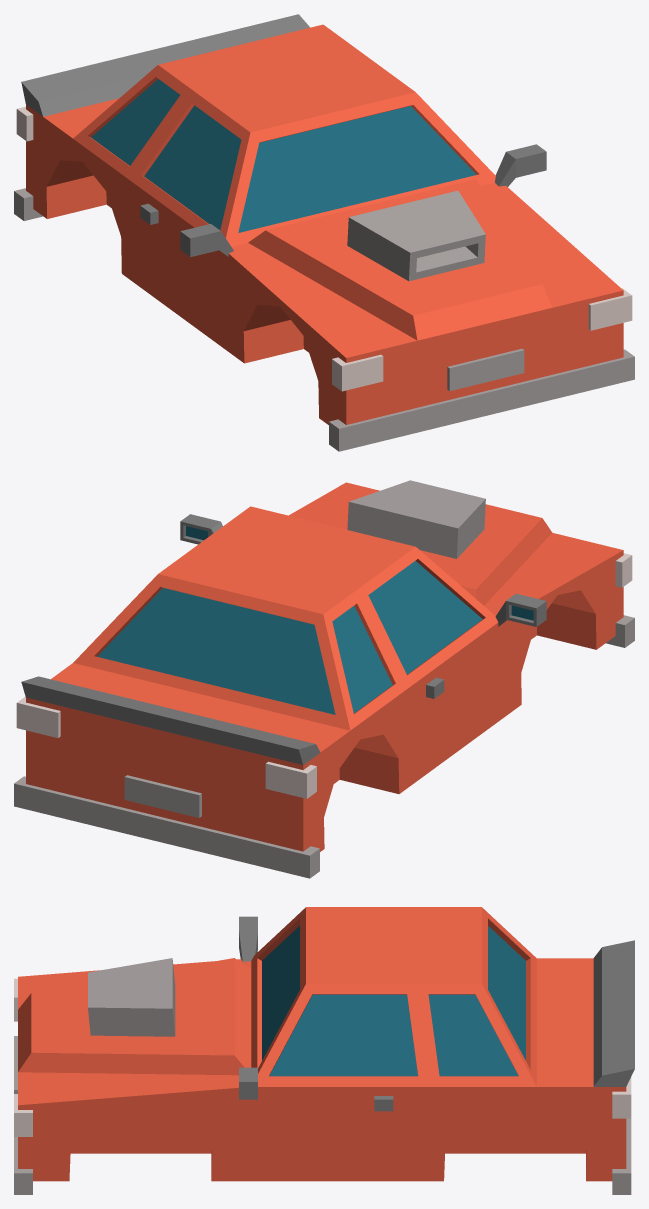
File: LowPolySport.fbx
3 renders of one model, top to bottom at view 1: azimuth 30°, elevation 25°; view 2: azimuth 150°, elevation 25°; view 3: azimuth 270°, elevation 25°, orthographic. The views are drawn at different scales.
Parts seen in each view (by area): view 1: Body; view 2: Body; view 3: Body.
Boxes of the visible parts, <box> form: Body: <box>14,14,634,451</box>; Body: <box>14,480,634,878</box>; Body: <box>14,907,634,1194</box>.
Size of the model in its own units: 2.57 by 1.31 by 4.08.
